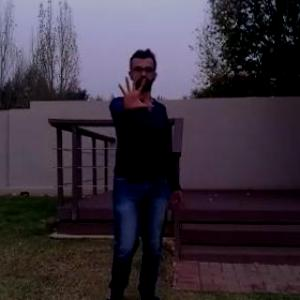follow_hand: (116, 72, 156, 112)
